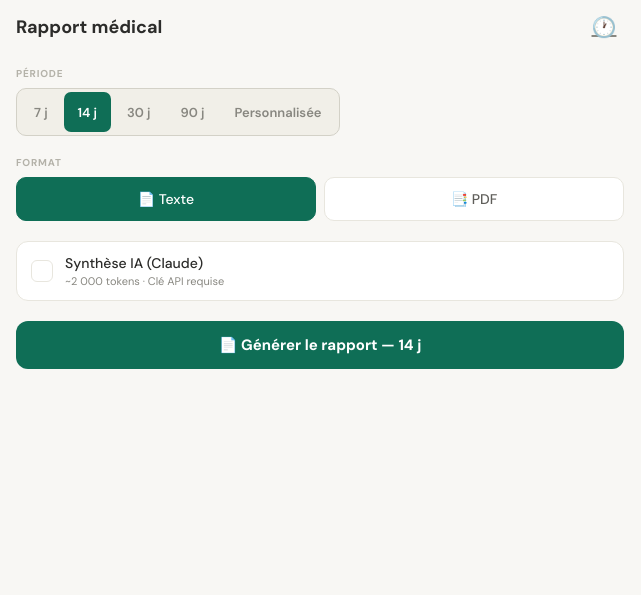
Test case: ReportBuilderComponent › génération › affiche le résultat après génération
Click the button with test id "generate-button" at (320, 345), box [16,321,624,369]
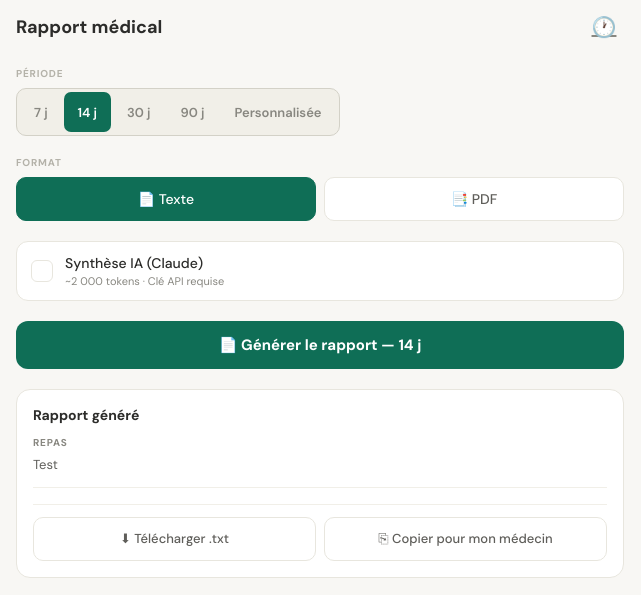
Check: the element with test id "report-result" is shown, box [16,389,624,578]
